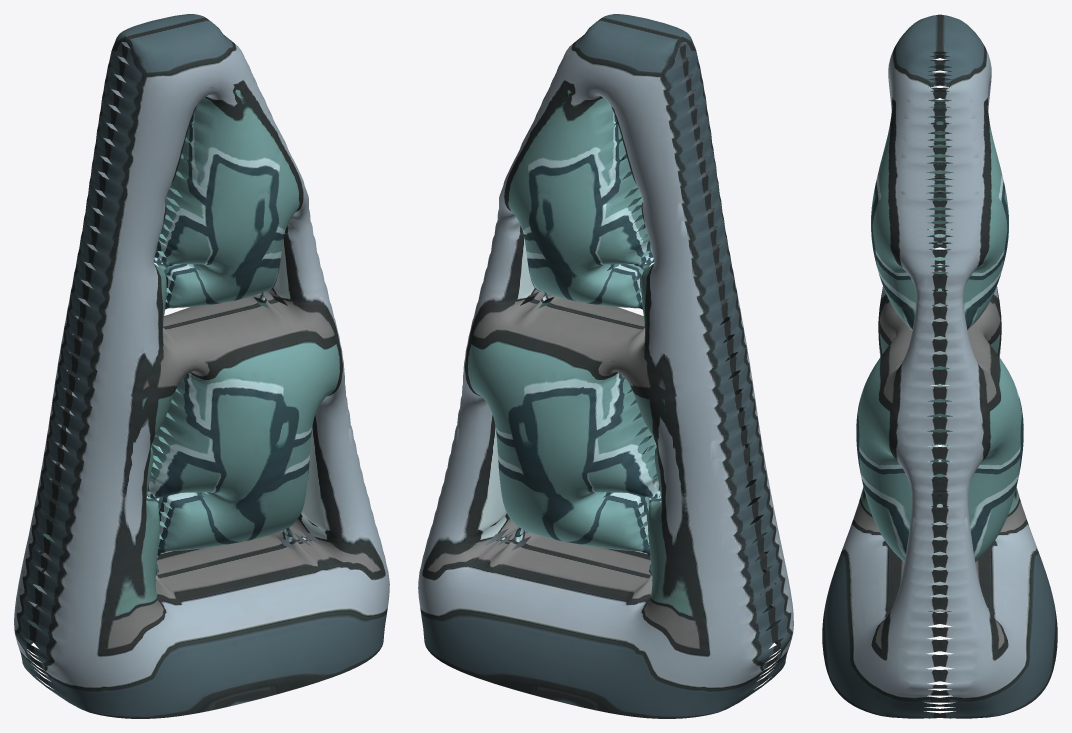
The model's file is carved_wall_panel.glb.
The picture shows the model from 3 angles, left to right: view 1: azimuth 30°, elevation 25°; view 2: azimuth 150°, elevation 25°; view 3: azimuth 270°, elevation 25°; orthographic projection. The views are drawn at different scales.
Parts seen in each view (by area): view 1: carved_wall_panel; view 2: carved_wall_panel; view 3: carved_wall_panel.
Part boxes in pixels (x1=…): carved_wall_panel: x1=14, y1=14, x2=389, y2=718; carved_wall_panel: x1=418, y1=14, x2=793, y2=718; carved_wall_panel: x1=822, y1=14, x2=1057, y2=718.
Size of the model in its own units: 0.9803 by 1.71 by 0.6122.
1 material, 1 textured.
